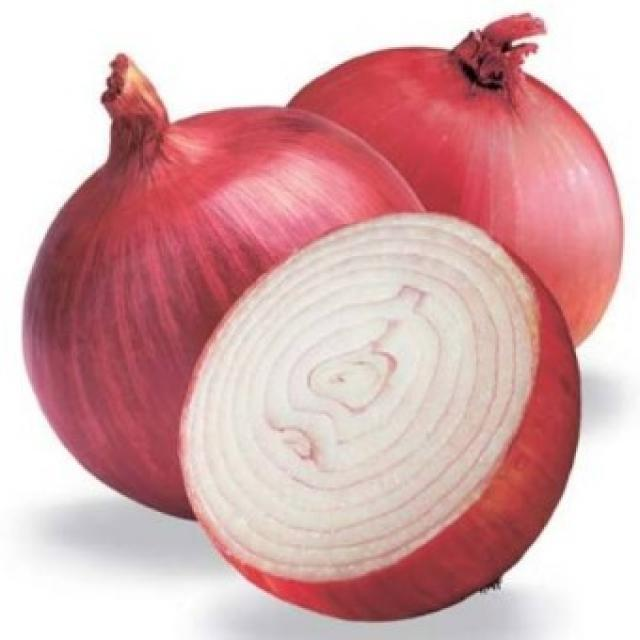onion: (180, 222, 584, 596), (351, 22, 640, 381), (96, 58, 363, 428)
